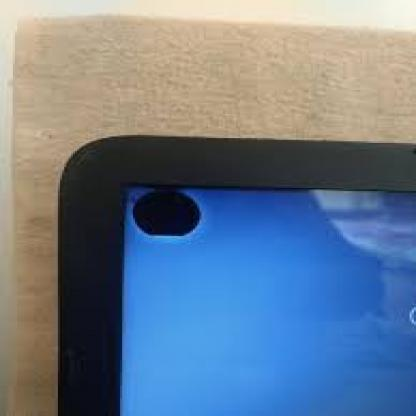spot: (126, 185, 212, 244)
